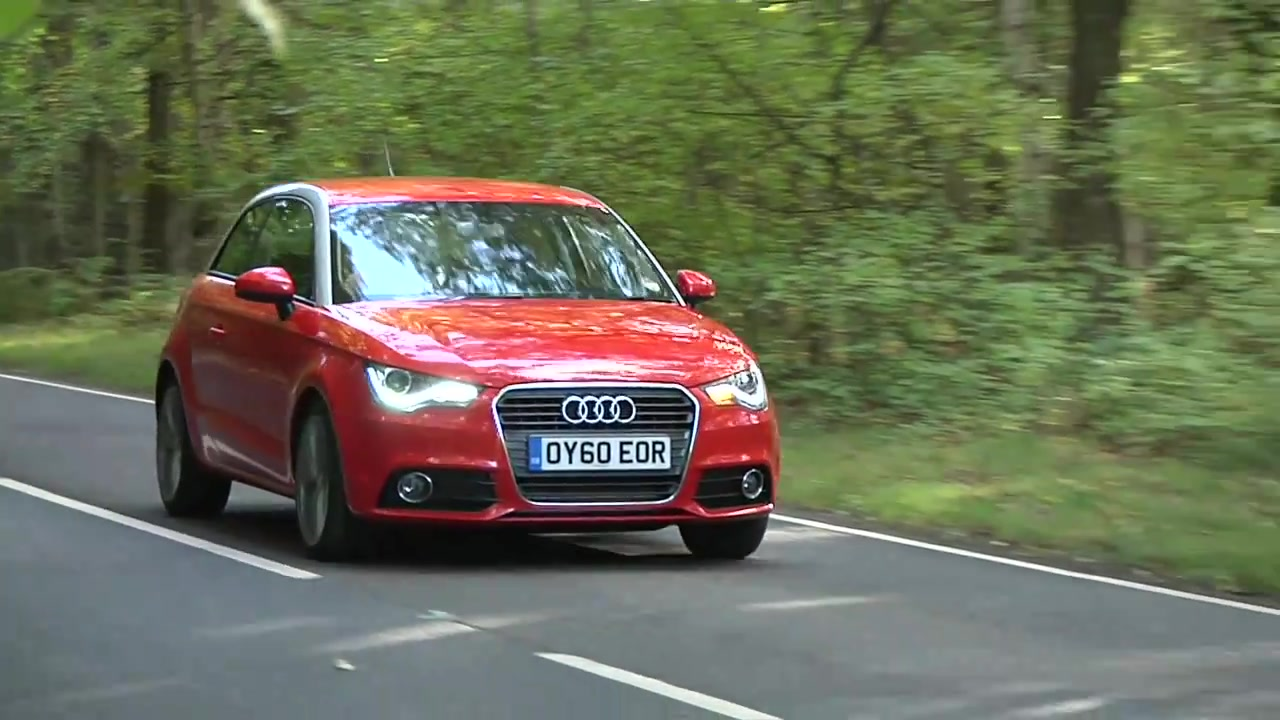car: (157, 179, 789, 571)
